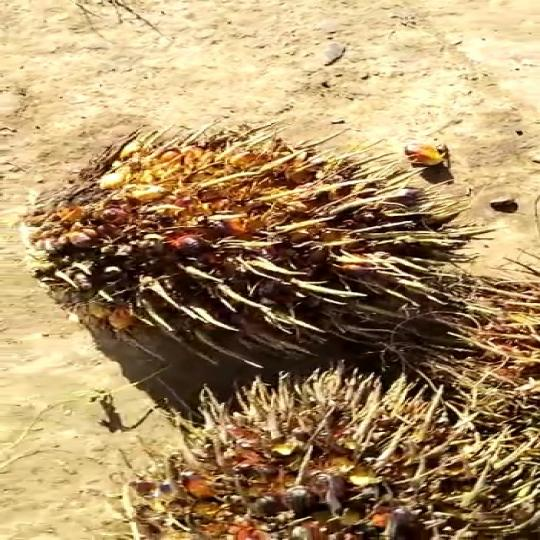terlalu masak: (4, 104, 495, 404)
